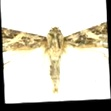Spodoptera litura: (2, 14, 108, 96)
